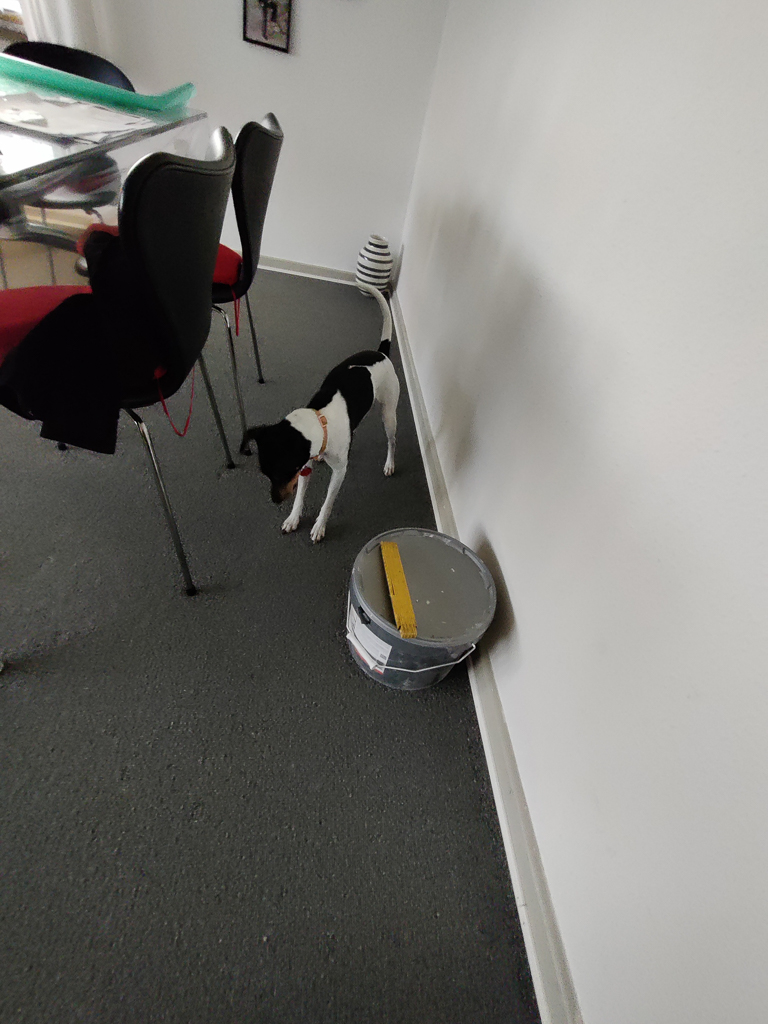Dog: (232, 275, 411, 555)
